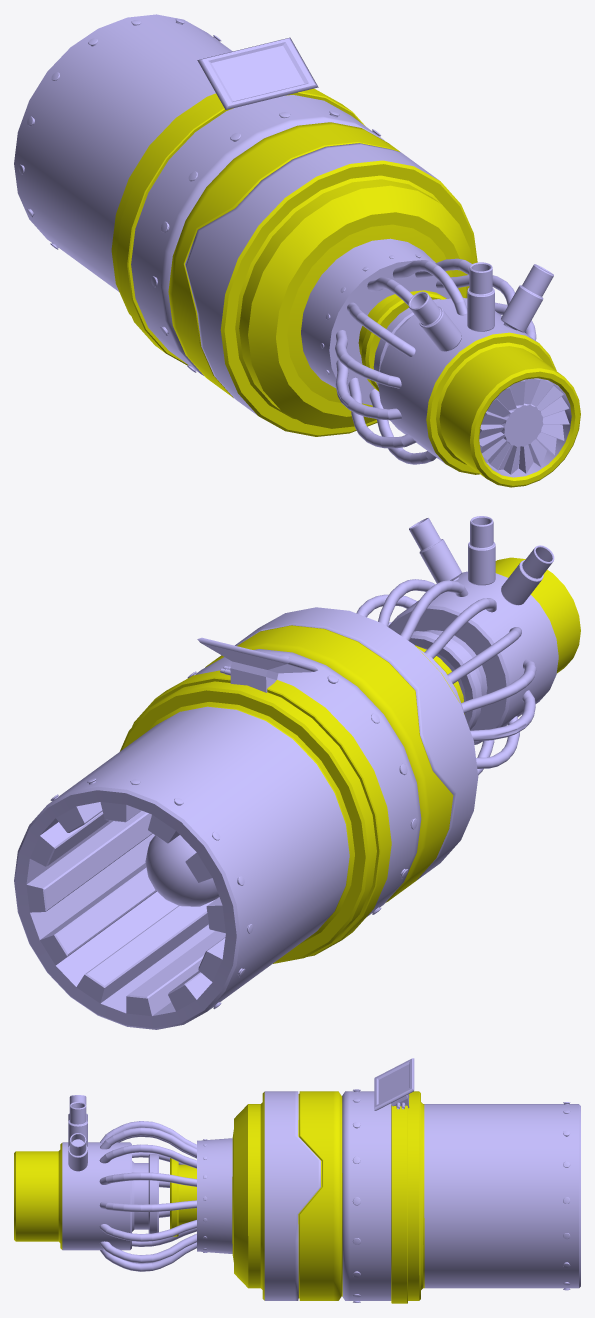
The model's file is Electric.fbx.
3 views of the same model, one above another, from view 1: azimuth 30°, elevation 25°; view 2: azimuth 150°, elevation 25°; view 3: azimuth 270°, elevation 25° (orthographic). The views are drawn at different scales.
Visible parts, largest first — view 1: Scifi hypersonic beam projector; view 2: Scifi hypersonic beam projector; view 3: Scifi hypersonic beam projector.
Boxes of the visible parts, box(x1,y1,x2,y2) form: Scifi hypersonic beam projector: box(14, 14, 580, 487); Scifi hypersonic beam projector: box(14, 516, 580, 1029); Scifi hypersonic beam projector: box(14, 1058, 580, 1303).
Bounding box in the file's own units: 117 × 132 × 307.
